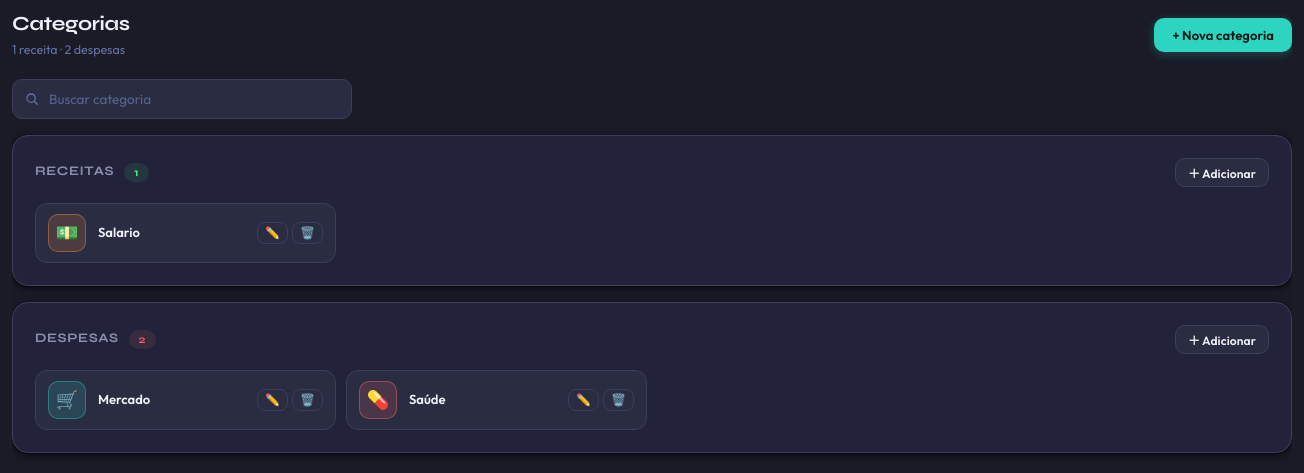
Test: CategoriesView search › clears the search with Escape
The width and height of the screenshot is (1304, 473).
Type "merc" into the search field labelled "Buscar categoria" at (182, 99), box top-left (12, 79), bottom-right (352, 119)
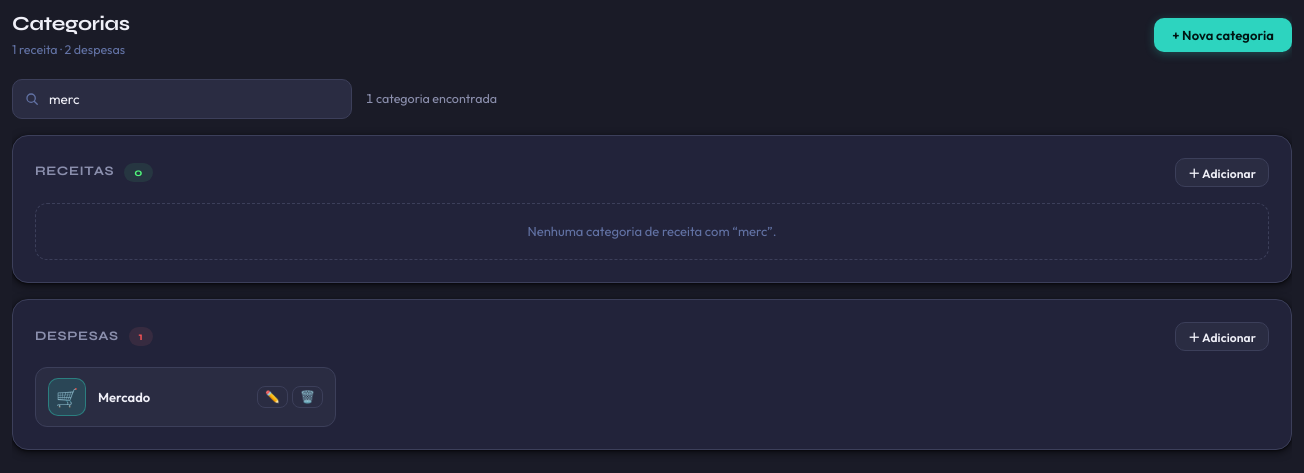
Press Escape in the search field named "Buscar categoria", box top-left (12, 79), bottom-right (352, 119)
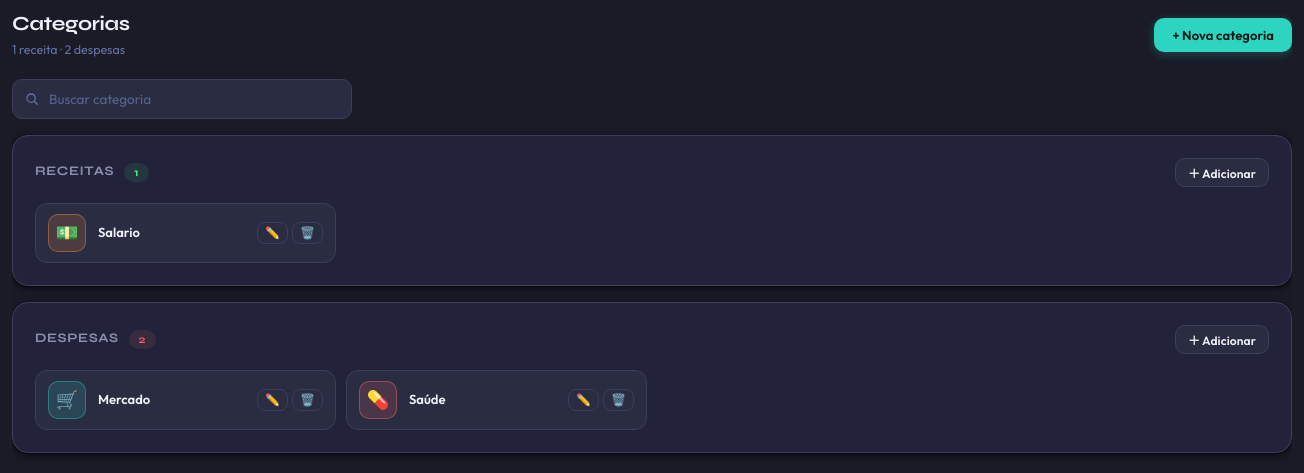
Expected: the text "Mercado" is shown, top-left (98, 391), bottom-right (150, 407)
Expected: the text "Saúde" is shown, top-left (409, 391), bottom-right (446, 407)
